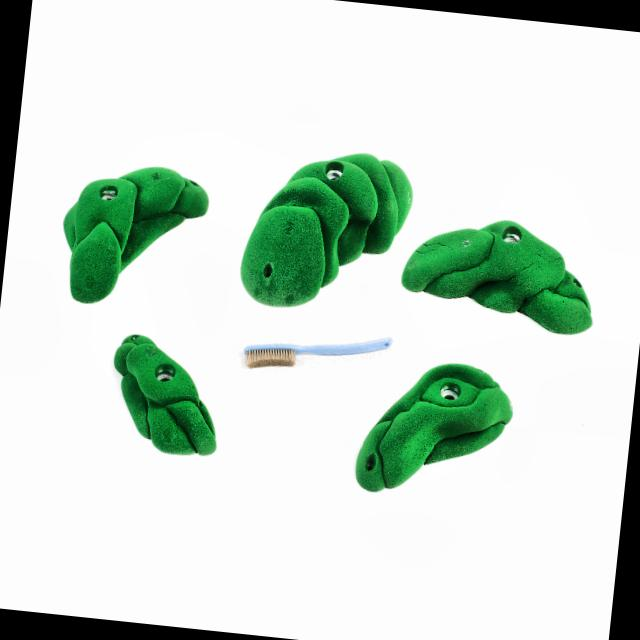Hold: (239, 140, 419, 318), (355, 350, 525, 502), (398, 205, 602, 330), (56, 156, 206, 310), (104, 329, 224, 454)
